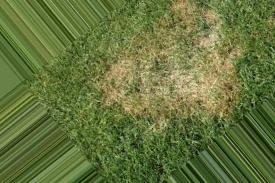patch: (117, 65, 206, 99), (182, 16, 222, 47), (173, 49, 220, 67), (212, 72, 230, 94)
